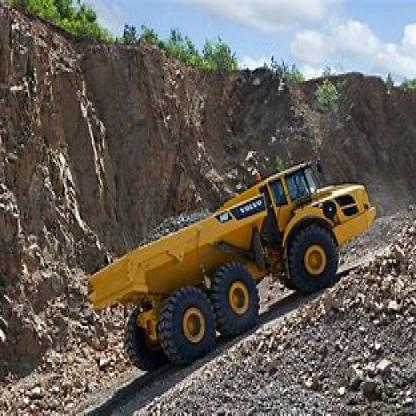dump_truck: (87, 153, 373, 369)
